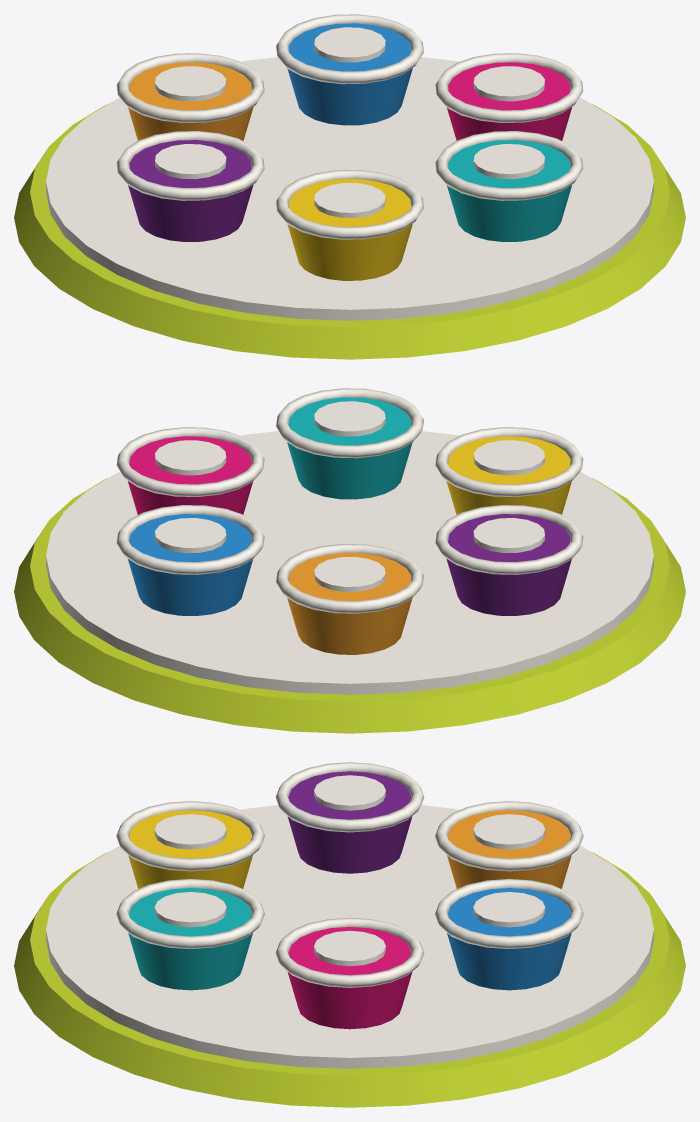
File: teacups.glb
3 views of the same model, one above another, from view 1: azimuth 30°, elevation 25°; view 2: azimuth 150°, elevation 25°; view 3: azimuth 270°, elevation 25° (orthographic).
Parts seen in each view (by area): view 1: teacup_floor, teacup_base, teacup_body_5, teacup_body_1, teacup_body_3, teacup_body_2, teacup_body_0, teacup_body_4, teacup_lip_3, teacup_lip_0, teacup_lip_2, teacup_lip_5 (+8 smaller); view 2: teacup_floor, teacup_base, teacup_body_1, teacup_body_5, teacup_body_3, teacup_body_4, teacup_body_0, teacup_body_2, teacup_lip_3, teacup_lip_0, teacup_lip_4, teacup_lip_1 (+8 smaller); view 3: teacup_floor, teacup_base, teacup_body_3, teacup_body_1, teacup_body_5, teacup_body_0, teacup_body_2, teacup_body_4, teacup_lip_3, teacup_lip_2, teacup_lip_4, teacup_lip_1 (+8 smaller).
Part boxes in pixels (x1,y1,x2,y2): teacup_floor: (46, 57, 653, 320); teacup_base: (14, 103, 685, 359); teacup_body_5: (287, 23, 412, 125); teacup_body_1: (447, 140, 571, 241); teacup_body_3: (128, 140, 253, 241); teacup_body_2: (287, 179, 412, 280); teacup_body_0: (447, 62, 571, 140); teacup_body_4: (128, 62, 253, 140); teacup_lip_3: (116, 131, 264, 200); teacup_lip_0: (435, 53, 583, 122); teacup_lip_2: (276, 170, 423, 239); teacup_lip_5: (276, 14, 423, 84); teacup_floor: (46, 431, 653, 694); teacup_base: (14, 477, 685, 733); teacup_body_1: (287, 397, 412, 499); teacup_body_5: (128, 514, 252, 615); teacup_body_3: (446, 514, 571, 615); teacup_body_4: (287, 553, 412, 654); teacup_body_0: (128, 436, 252, 514); teacup_body_2: (446, 436, 571, 514); teacup_lip_3: (435, 505, 583, 574); teacup_lip_0: (116, 427, 264, 496); teacup_lip_4: (276, 544, 423, 613); teacup_lip_1: (276, 388, 423, 458); teacup_floor: (46, 805, 653, 1068); teacup_base: (14, 852, 685, 1107); teacup_body_3: (287, 771, 412, 873); teacup_body_1: (128, 888, 252, 990); teacup_body_5: (447, 888, 571, 990); teacup_body_0: (287, 927, 412, 1029); teacup_body_2: (128, 810, 252, 888); teacup_body_4: (447, 810, 571, 888); teacup_lip_3: (275, 762, 424, 832); teacup_lip_2: (116, 801, 264, 871); teacup_lip_4: (435, 801, 583, 871); teacup_lip_1: (116, 879, 264, 948).
Bounding box in the file's own units: 16.8 × 2.69 × 16.8.
